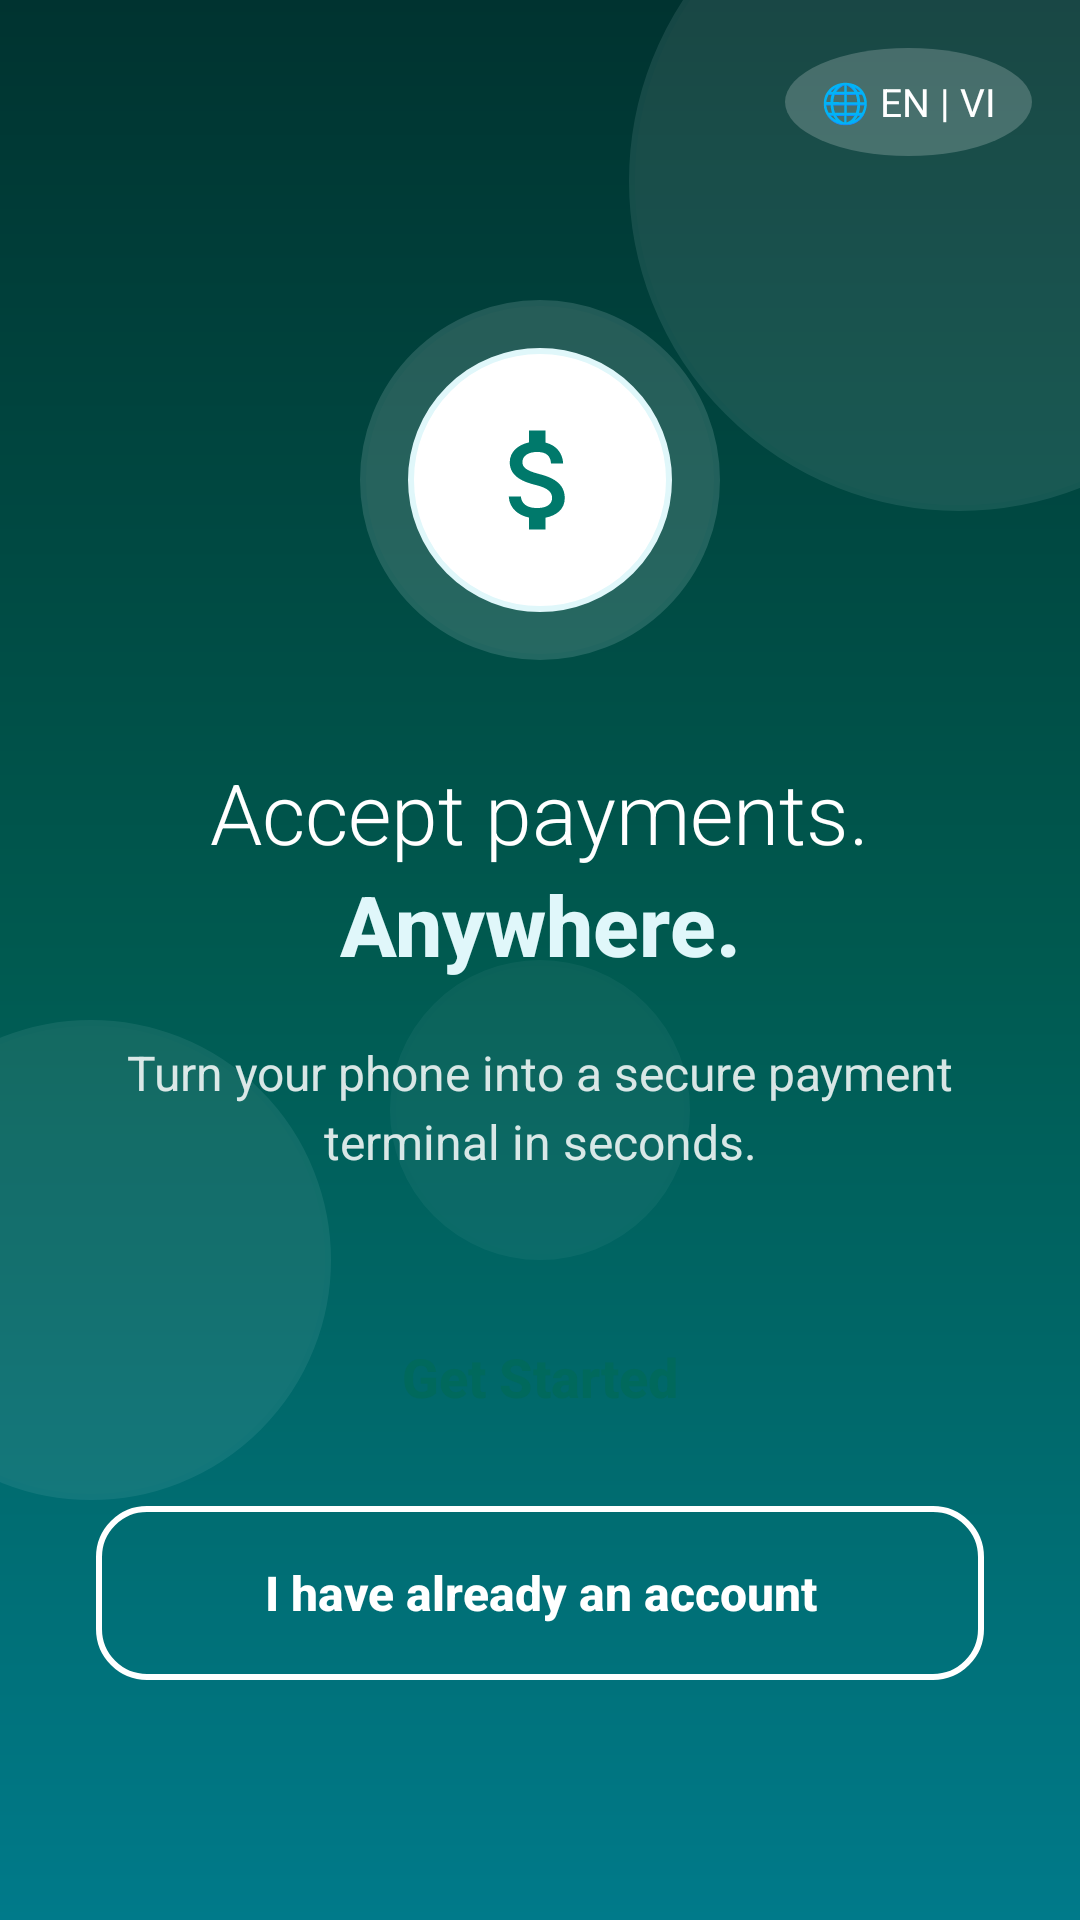

Point at icon controls on the screen. Image size 1080w x 1920h, points as point (x, y).
money: point (536, 480)
